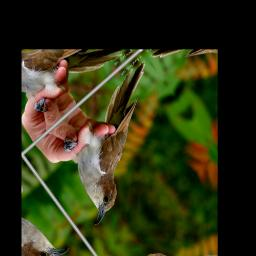Cuckoo: (40, 59, 200, 227)
